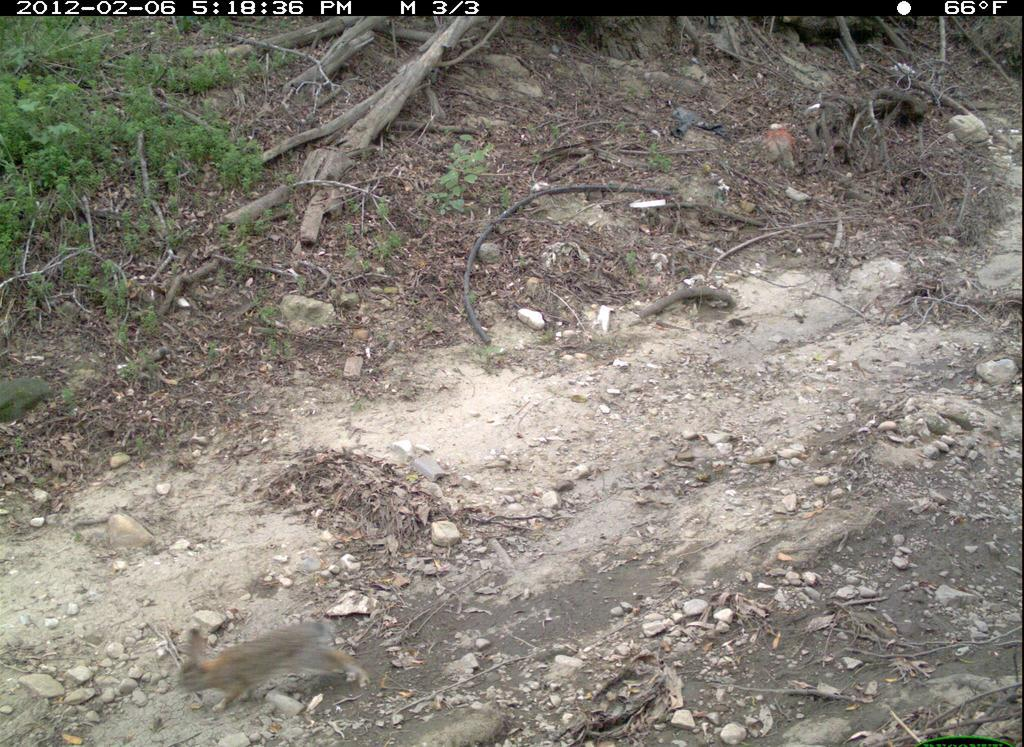rabbit: (161, 605, 378, 729)
